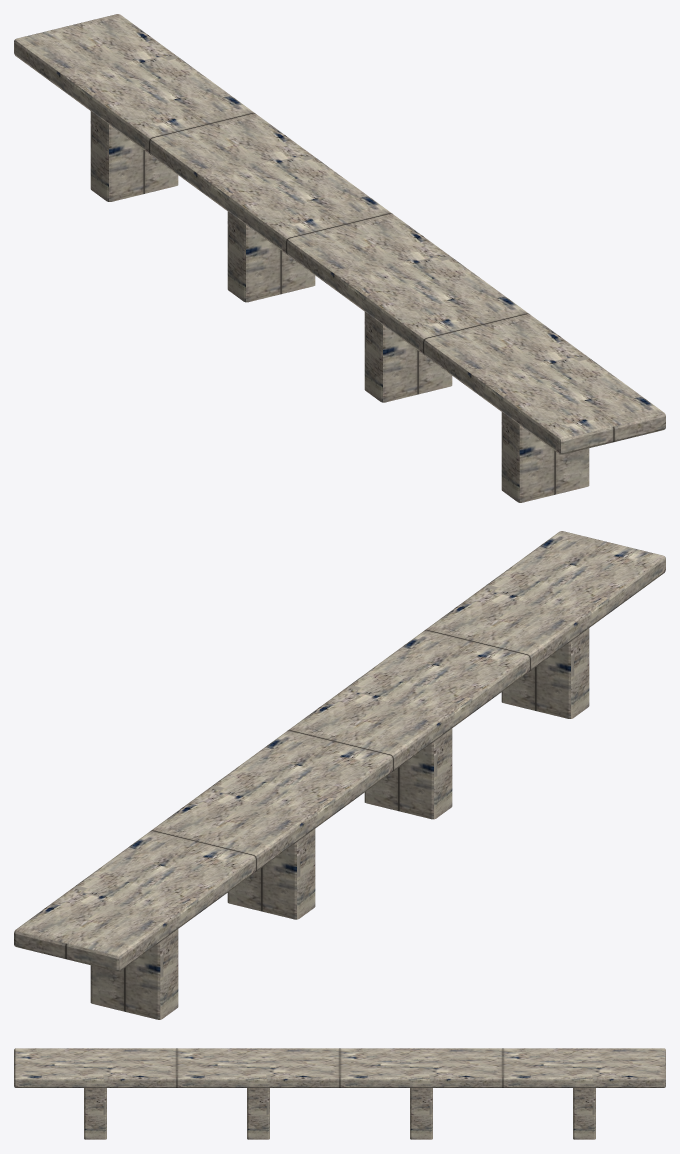
The model's file is SM_Morin_PanchinaLunga_Mod.fbx.
3 renders of one model, top to bottom at view 1: azimuth 30°, elevation 25°; view 2: azimuth 150°, elevation 25°; view 3: azimuth 270°, elevation 25°, orthographic. The views are drawn at different scales.
Visible parts, largest first — view 1: SM_Morin_PanchinaLunga_Mod; view 2: SM_Morin_PanchinaLunga_Mod; view 3: SM_Morin_PanchinaLunga_Mod.
Boxes of the visible parts, x1,y1,x2,y2 form: SM_Morin_PanchinaLunga_Mod: [14, 14, 665, 502]; SM_Morin_PanchinaLunga_Mod: [14, 531, 665, 1019]; SM_Morin_PanchinaLunga_Mod: [14, 1048, 665, 1139].
Size of what is drawn, in the model's own units: 45 by 400 by 45.
Materials: 1 (1 with a texture image).
